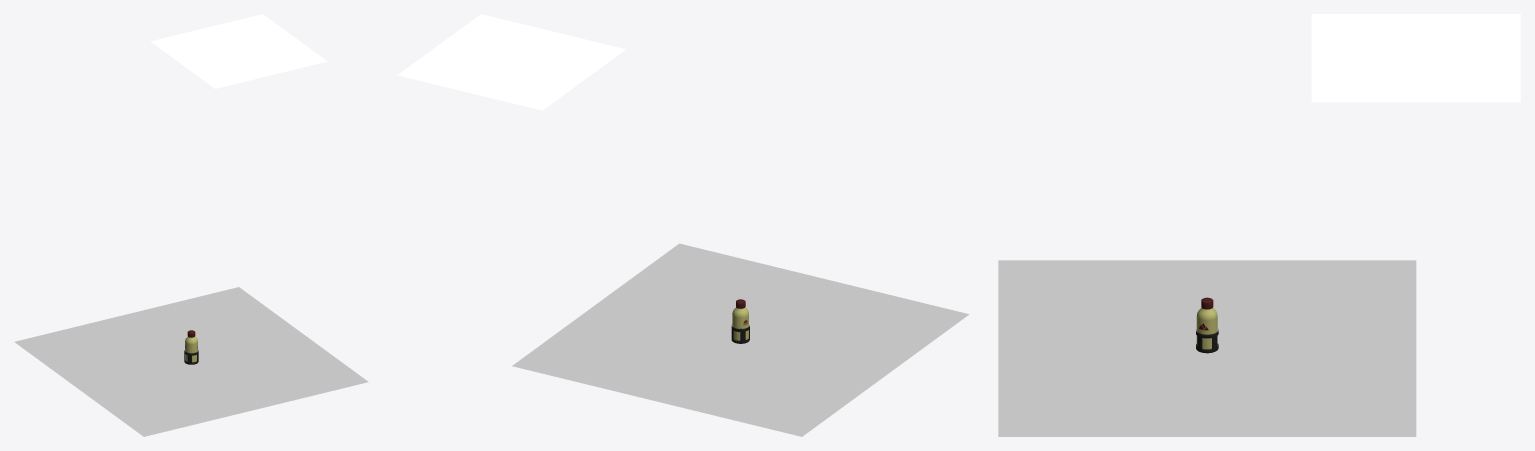
File: waterbottle_plastic.gltf
3 renders of one model, left to right at view 1: azimuth 30°, elevation 25°; view 2: azimuth 150°, elevation 25°; view 3: azimuth 270°, elevation 25°, orthographic. The views are drawn at different scales.
Parts seen in each view (by area): view 1: Plane, AreaLight, WaterBottle; view 2: Plane, AreaLight, WaterBottle; view 3: Plane, AreaLight, WaterBottle.
Part boxes in pixels (x1=…): Plane: x1=14, y1=287, x2=368, y2=436; AreaLight: x1=150, y1=14, x2=327, y2=88; WaterBottle: x1=184, y1=330, x2=198, y2=364; Plane: x1=512, y1=243, x2=968, y2=436; AreaLight: x1=398, y1=14, x2=625, y2=110; WaterBottle: x1=731, y1=299, x2=749, y2=343; Plane: x1=998, y1=260, x2=1416, y2=436; AreaLight: x1=1311, y1=14, x2=1520, y2=102; WaterBottle: x1=1196, y1=297, x2=1218, y2=353.
Bounding box in the file's own units: 2.5 × 2 × 2.5.
Materials: 3 (1 with a texture image).
